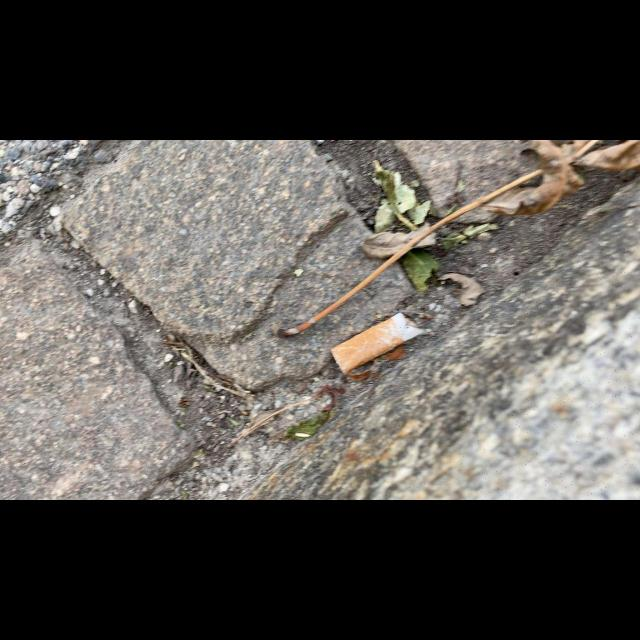cigarette: (330, 311, 433, 376)
